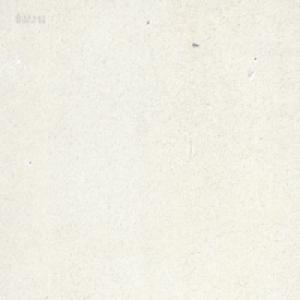Nail: (192, 41, 199, 46)
